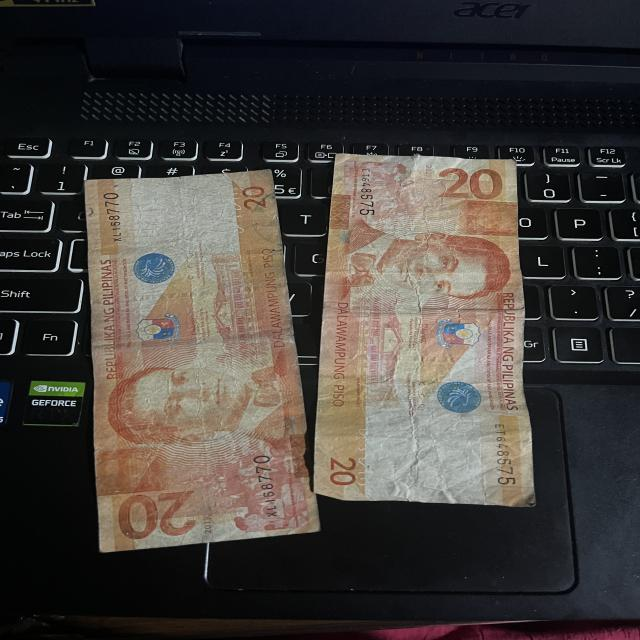concealed_value: (100, 445, 180, 494), (460, 202, 520, 234)
serial_number: (252, 446, 293, 525), (484, 418, 524, 493), (96, 186, 128, 248), (354, 166, 380, 225)
value: (111, 488, 198, 544), (431, 163, 509, 208)
watermark: (372, 419, 484, 494), (129, 188, 221, 254)
